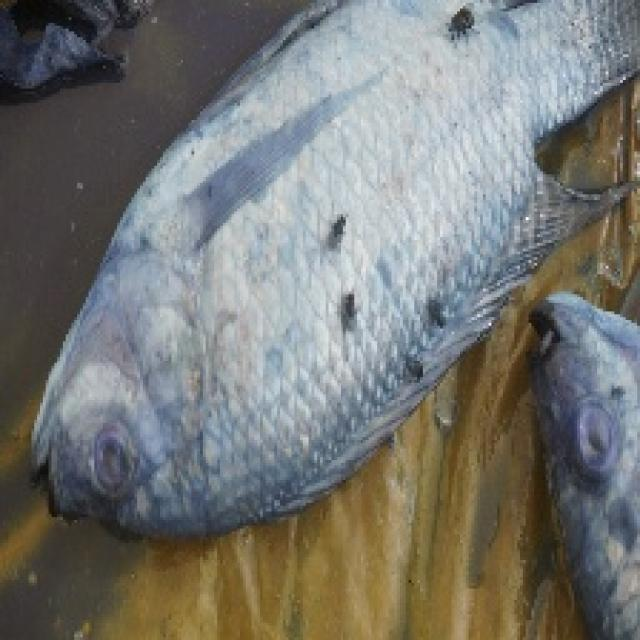Non-Fresh: (184, 133, 500, 401), (82, 408, 162, 506)
